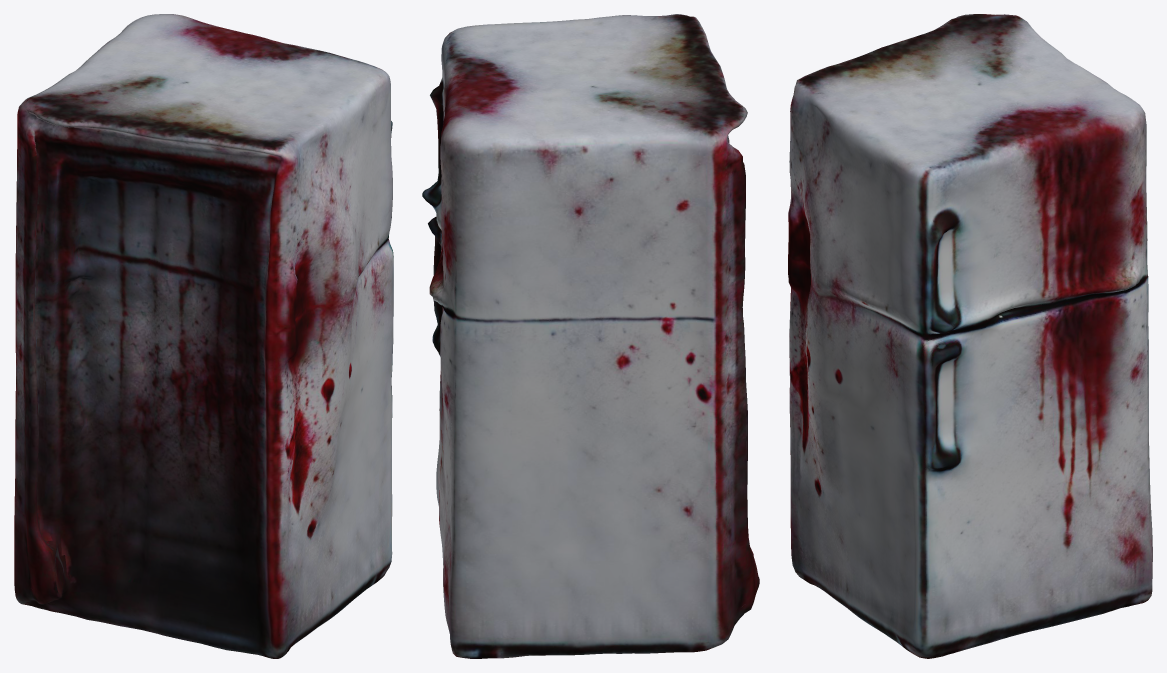
The model's file is e50676dcc581_Blood_stained_refri.fbx.
The picture shows the model from 3 angles, left to right: view 1: azimuth 30°, elevation 25°; view 2: azimuth 150°, elevation 25°; view 3: azimuth 270°, elevation 25°; orthographic projection. The views are drawn at different scales.
Visible parts, largest first — view 1: mesh; view 2: mesh; view 3: mesh.
Part boxes in pixels (left/top/right/bottom): mesh: left=14, top=14, right=393, bottom=658; mesh: left=422, top=14, right=759, bottom=658; mesh: left=788, top=14, right=1152, bottom=658.
Bounding box in the file's own units: 68.29 × 99.92 × 65.47.
